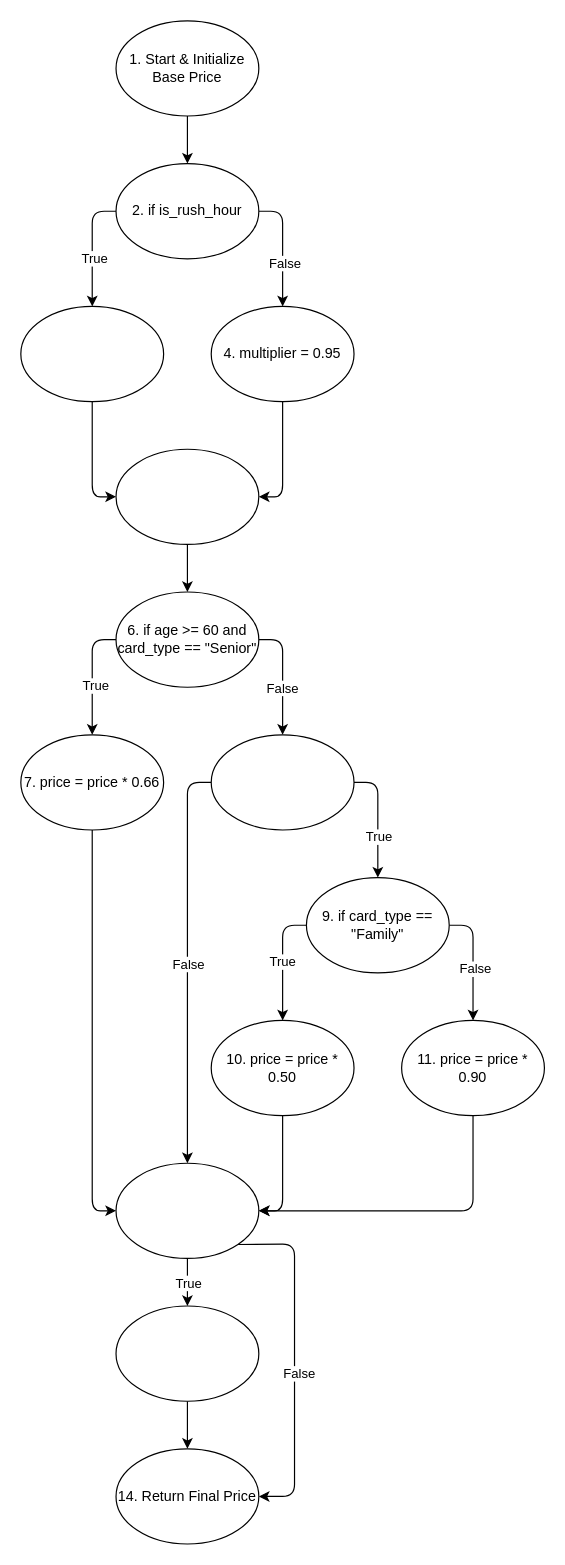
The diagram is 565 pixels wide and 1565 high, and some of its shapes have lost their labels. The box of each missing label's shape, as (x1, y1, x2, y2) in pixels:
12. if is_round_trip: (115, 1162, 259, 1258)
13. price = price * 2: (115, 1305, 259, 1401)
3. multiplier = 1.0: (20, 305, 164, 402)
5. Apply multiplier to price: (115, 448, 259, 544)
8. elif age < 16: (210, 734, 354, 830)
